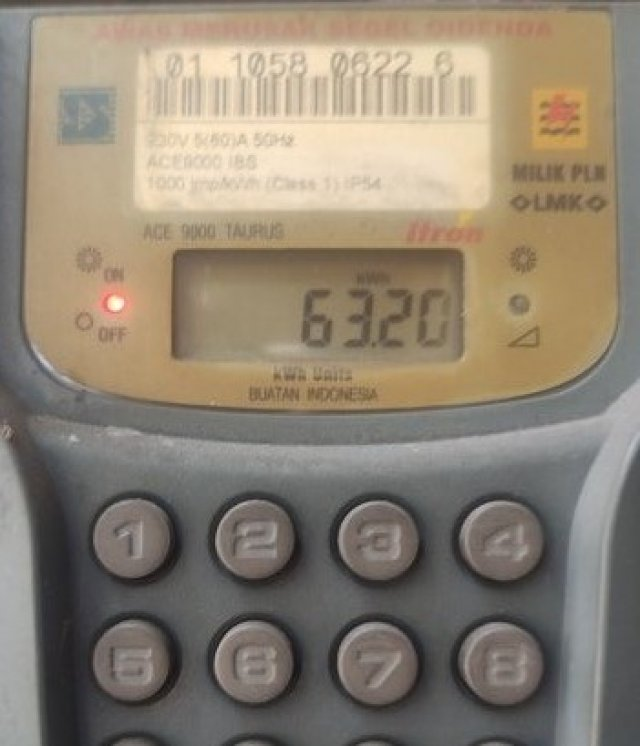box: (174, 248, 466, 362)
